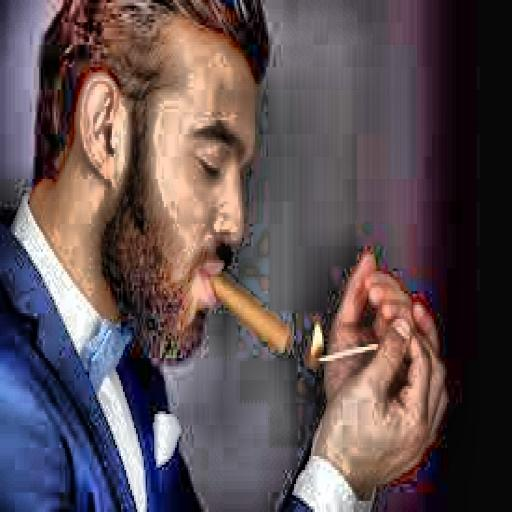fire: (300, 316, 328, 369)
